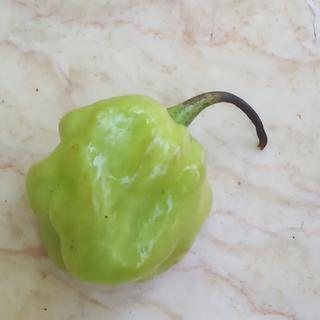Grade-B: (21, 87, 215, 284)
